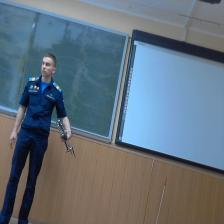drone: (55, 112, 78, 164)
